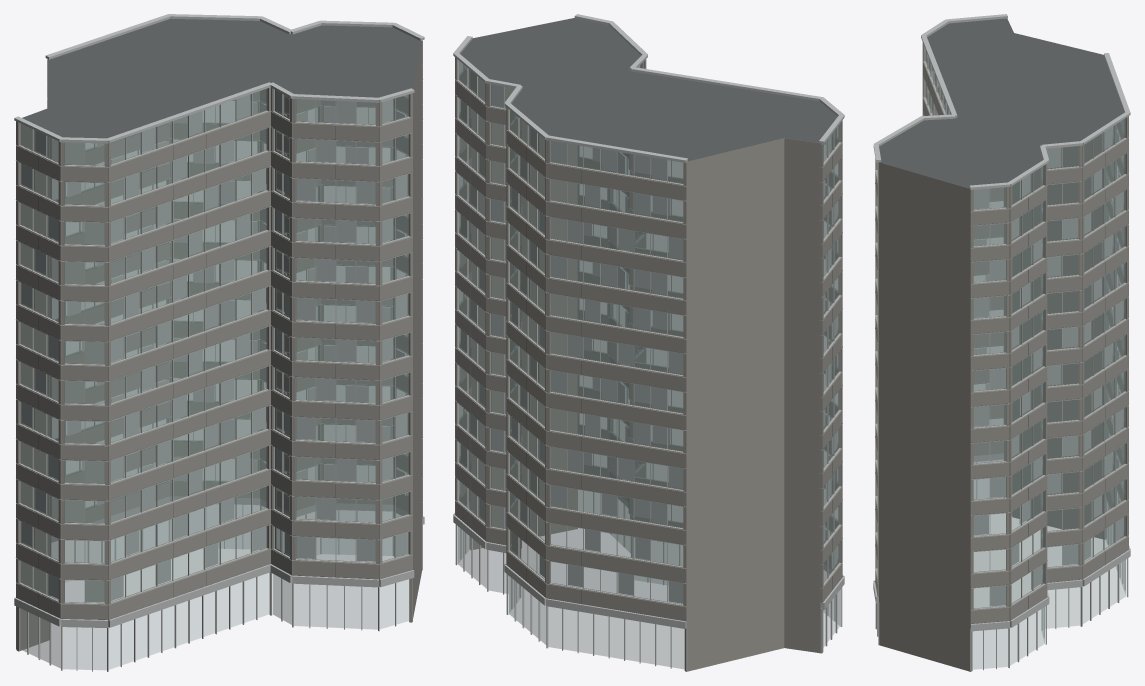
File: faw-exterior-3449976168fa.glb
The picture shows the model from 3 angles, left to right: view 1: azimuth 30°, elevation 25°; view 2: azimuth 150°, elevation 25°; view 3: azimuth 270°, elevation 25°; orthographic projection. The views are drawn at different scales.
Visible parts, largest first — view 1: FAW.001; view 2: FAW.001; view 3: FAW.001.
Part boxes in pixels (x1=…): FAW.001: x1=14, y1=14, x2=424, y2=671; FAW.001: x1=453, y1=14, x2=844, y2=671; FAW.001: x1=873, y1=14, x2=1130, y2=671.
Size of the model in its own units: 33.96 by 44.23 by 21.26.
